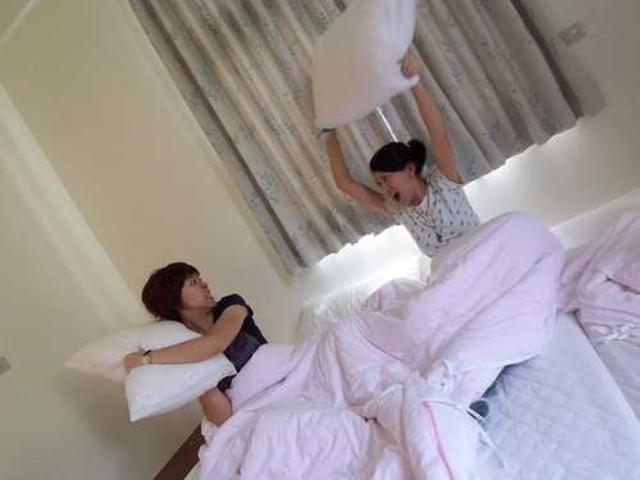pillow: (286, 12, 444, 134), (65, 332, 237, 414)
